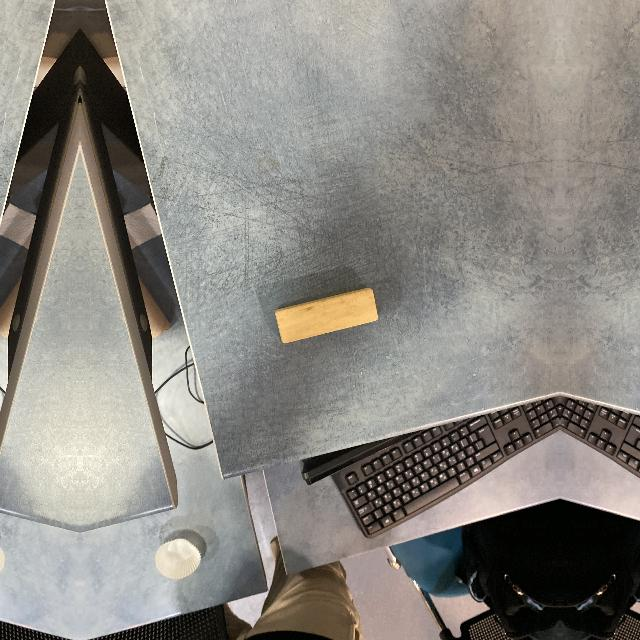jenga: (274, 288, 378, 348)
